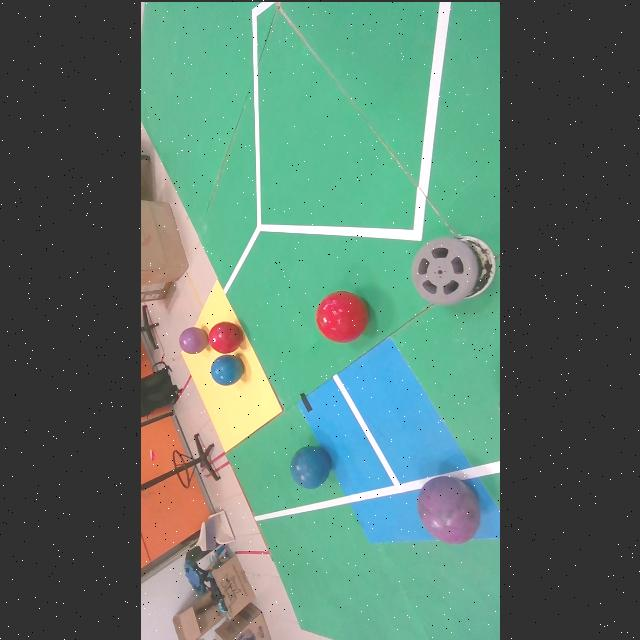B: (290, 445, 331, 487), (210, 354, 243, 385)
P: (417, 475, 479, 543), (178, 326, 207, 353)
R: (314, 290, 366, 341), (208, 321, 242, 353)
